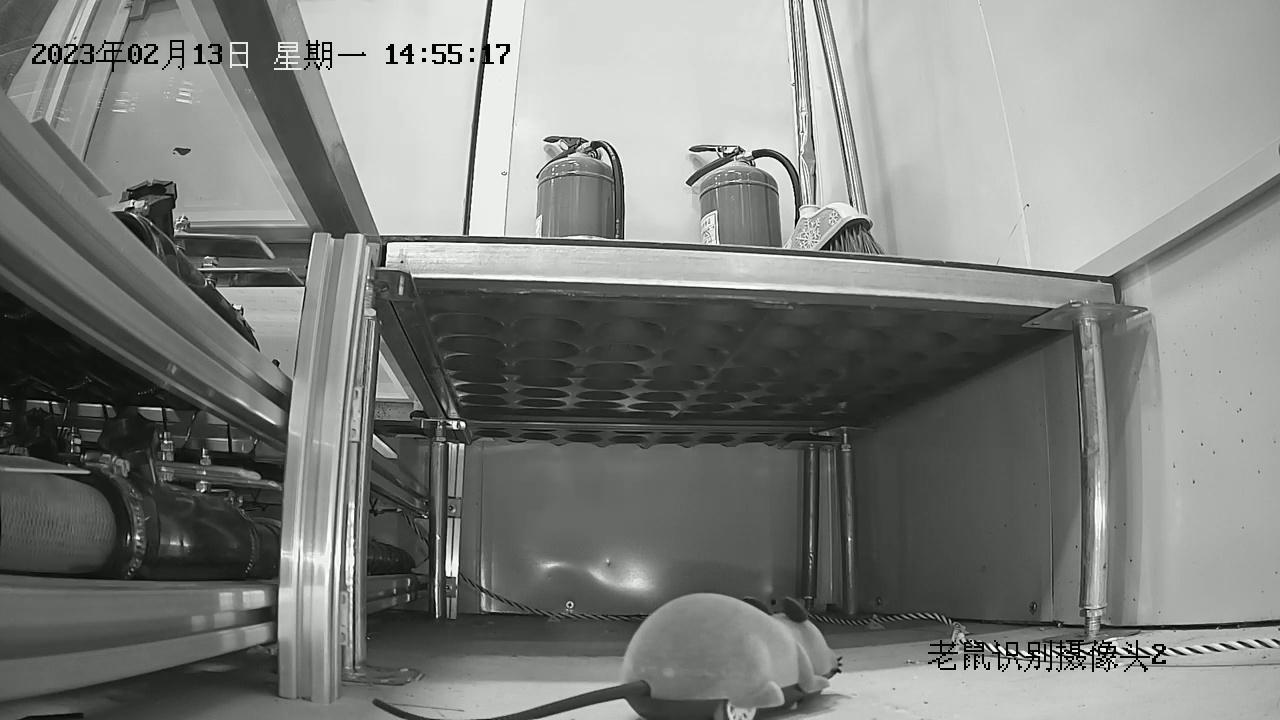rat: (621, 591, 841, 720)
